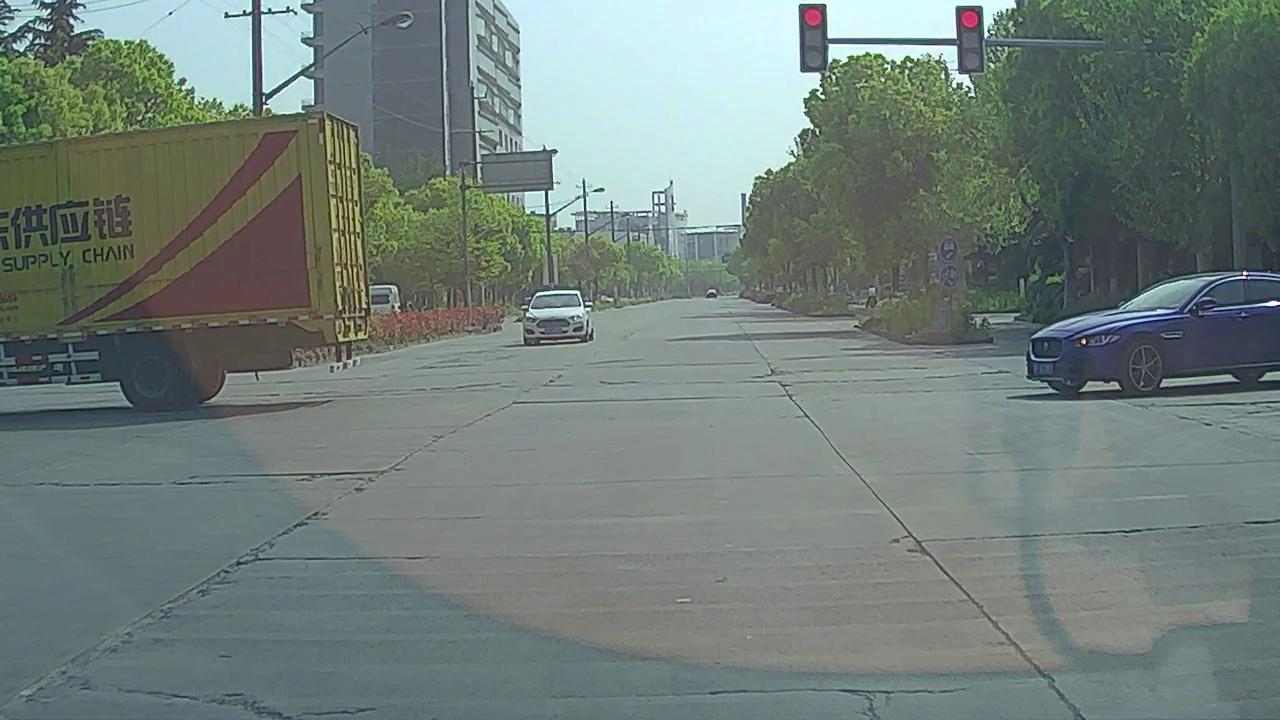traffic_light: (801, 6, 828, 74), (959, 8, 985, 75)
